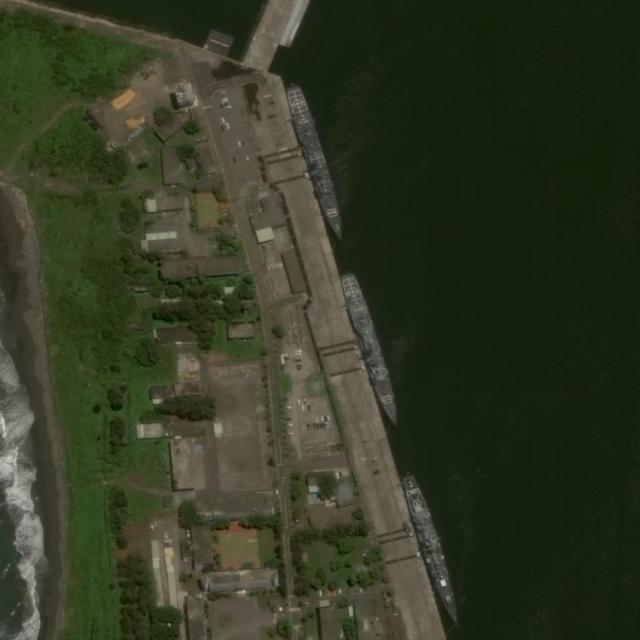Frigate: (284, 81, 350, 249), (401, 469, 465, 632), (340, 269, 402, 430)
